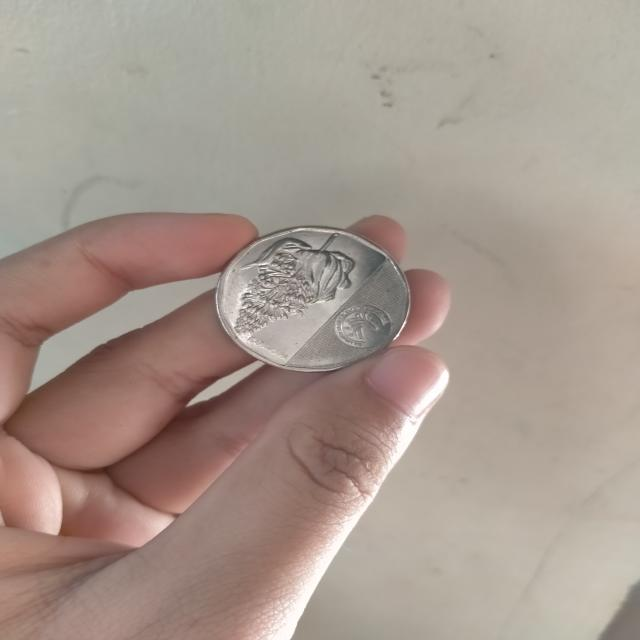10_New_Back: (234, 230, 347, 346)
